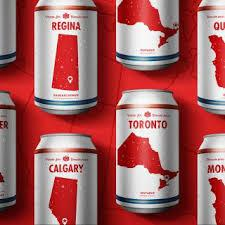beer: (114, 86, 184, 215)
